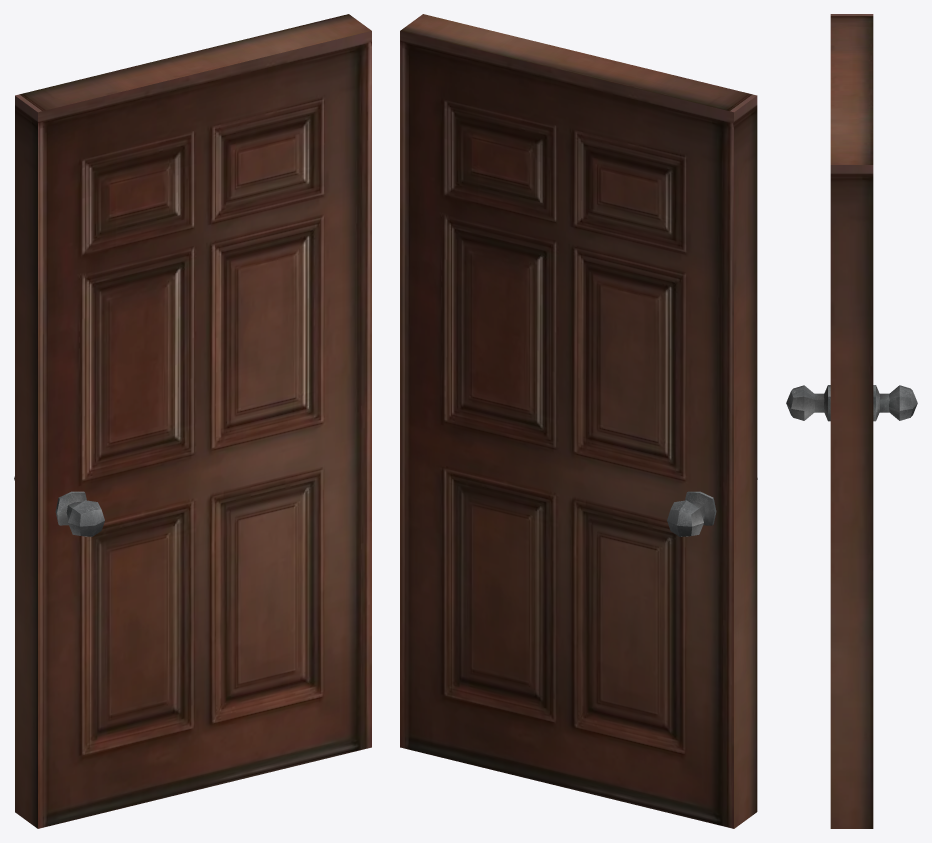
The model's file is Door2.fbx.
3 renders of one model, left to right at view 1: azimuth 30°, elevation 25°; view 2: azimuth 150°, elevation 25°; view 3: azimuth 270°, elevation 25°, orthographic. The views are drawn at different scales.
Visible parts, largest first — view 1: door.001, pomo.002; view 2: door.001, pomo.003; view 3: door.001, pomo.003, pomo.002.
Boxes of the visible parts, <box> form: door.001: <box>15,14,371,828</box>; pomo.002: <box>55,491,104,536</box>; door.001: <box>400,14,757,828</box>; pomo.003: <box>667,491,716,536</box>; door.001: <box>830,14,873,828</box>; pomo.003: <box>873,385,917,421</box>; pomo.002: <box>786,385,830,421</box>.
Bounding box in the file's own units: 2 × 0.7374 × 4.1.
